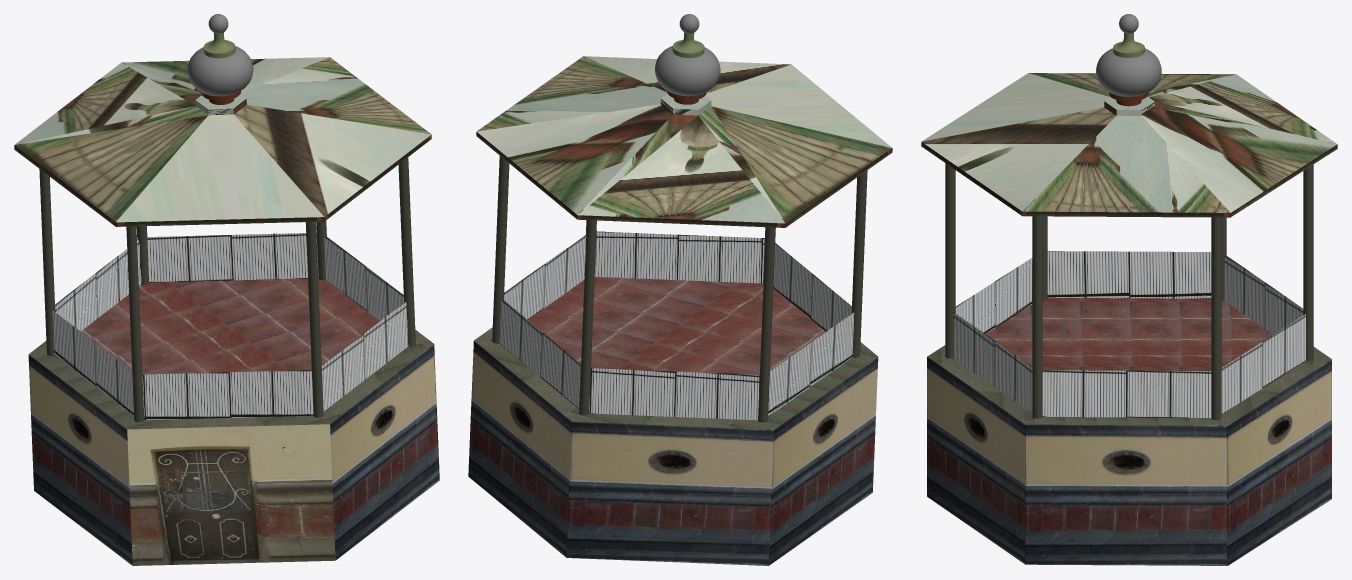
The model's file is KioskoUNO.gltf.
The picture shows the model from 3 angles, left to right: view 1: azimuth 30°, elevation 25°; view 2: azimuth 150°, elevation 25°; view 3: azimuth 270°, elevation 25°; orthographic projection.
Bounding box in the file's own units: 7.4 × 10.48 × 8.23.
Materials: 11 (7 with a texture image).
